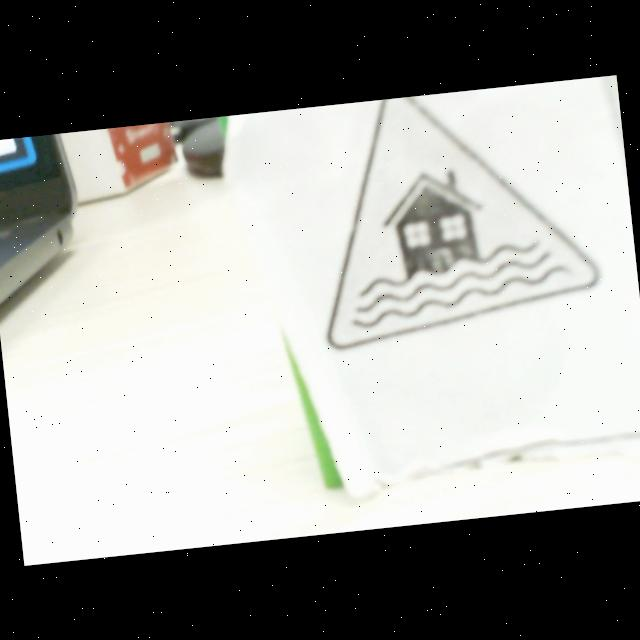Tsunami: (327, 99, 596, 348)
